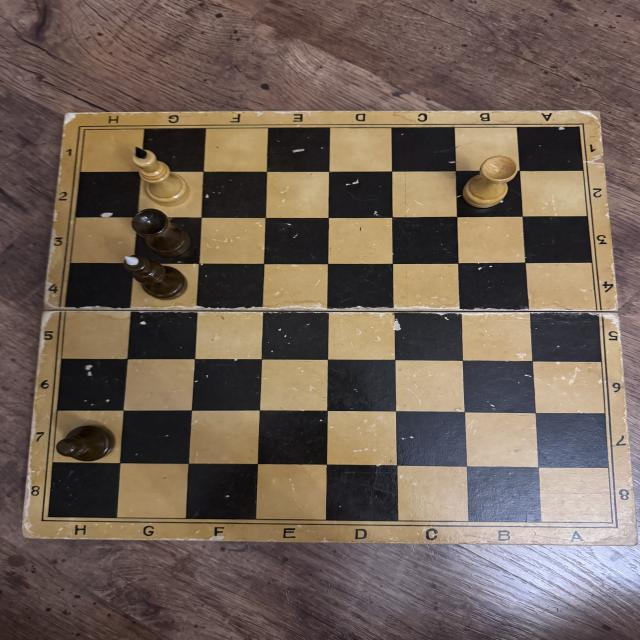black-king: (121, 254, 187, 299)
black-pawn: (56, 426, 116, 461)
black-rook: (129, 208, 192, 256)
white-king: (131, 145, 193, 206)
white-rook: (462, 155, 519, 210)
